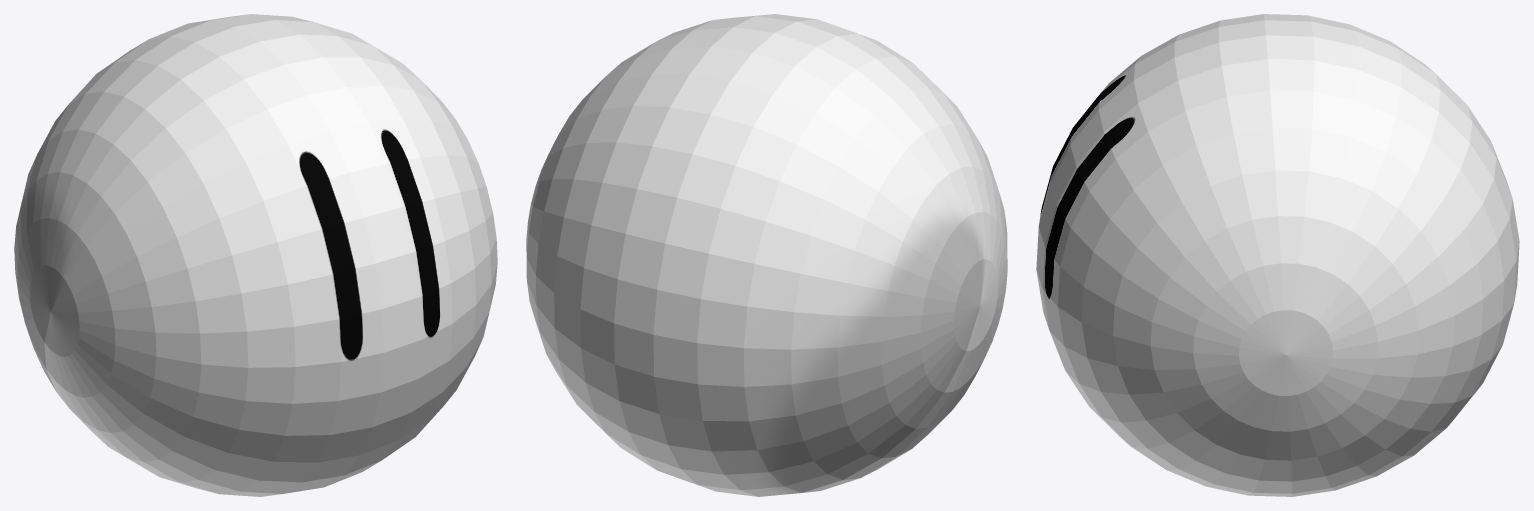
File: player.obj
3 views of the same model, side by side, from view 1: azimuth 30°, elevation 25°; view 2: azimuth 150°, elevation 25°; view 3: azimuth 270°, elevation 25° (orthographic).
Parts seen in each view (by area): view 1: 球; view 2: 球; view 3: 球.
Boxes of the visible parts, box(x1,y1,x2,y2) form: 球: box(14, 14, 497, 496); 球: box(526, 14, 1007, 496); 球: box(1036, 14, 1519, 496).
Bounding box in the file's own units: 1.05 × 1.05 × 1.05.
Materials: 1 (1 with a texture image).
